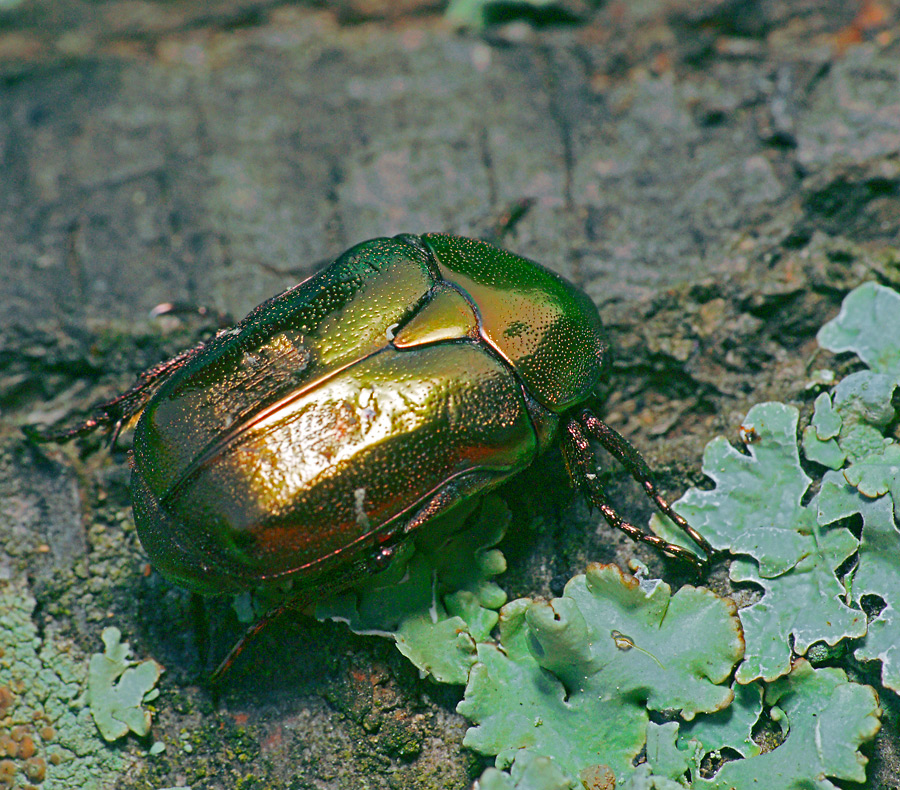Protaetia_fieberi: (17, 190, 729, 677)
